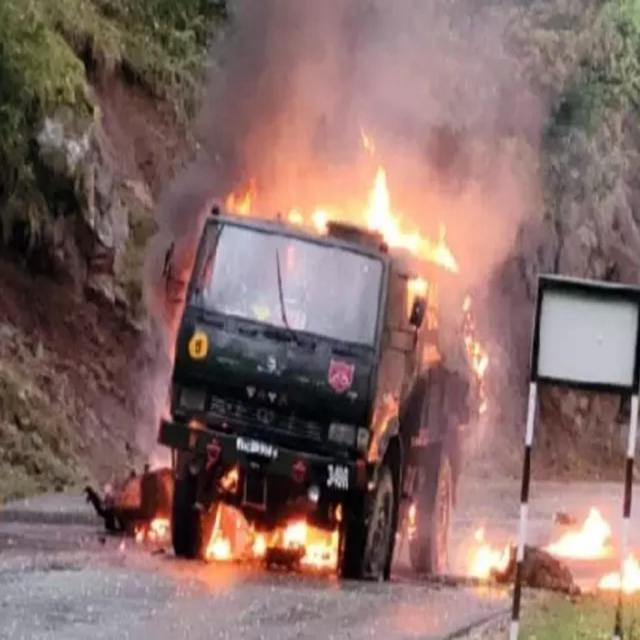accident: (159, 209, 471, 580)
